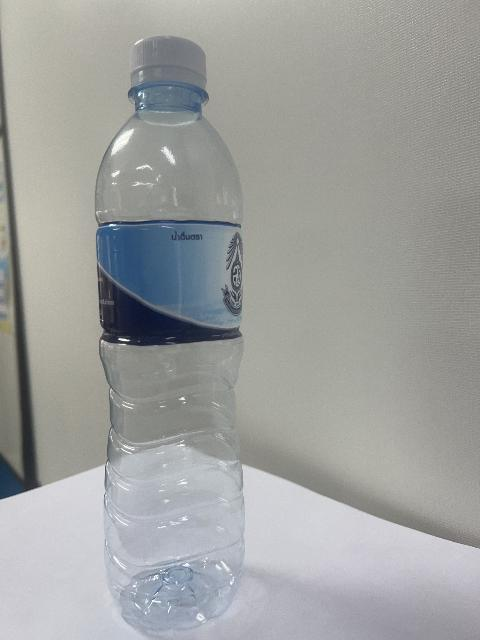bottle: (96, 37, 244, 632)
